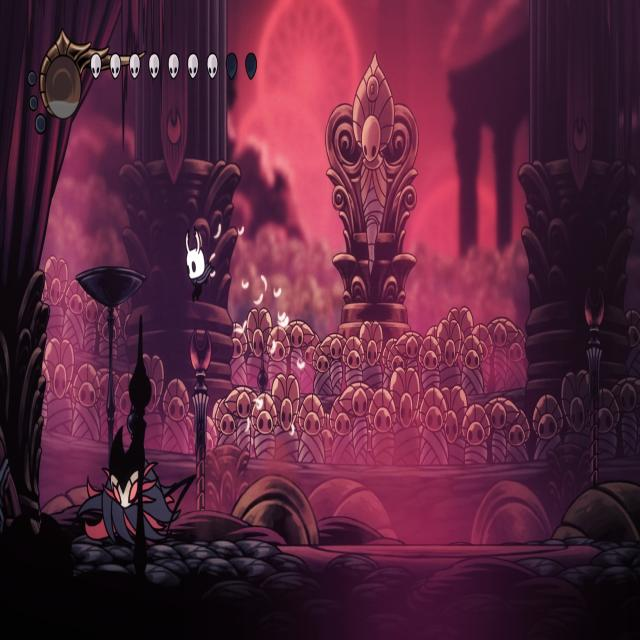Dive Dash: (65, 412, 194, 548)
Player: (182, 222, 216, 307)
